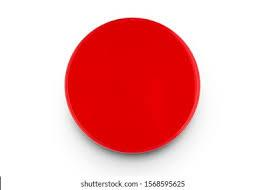red_circle: (54, 10, 213, 169)
